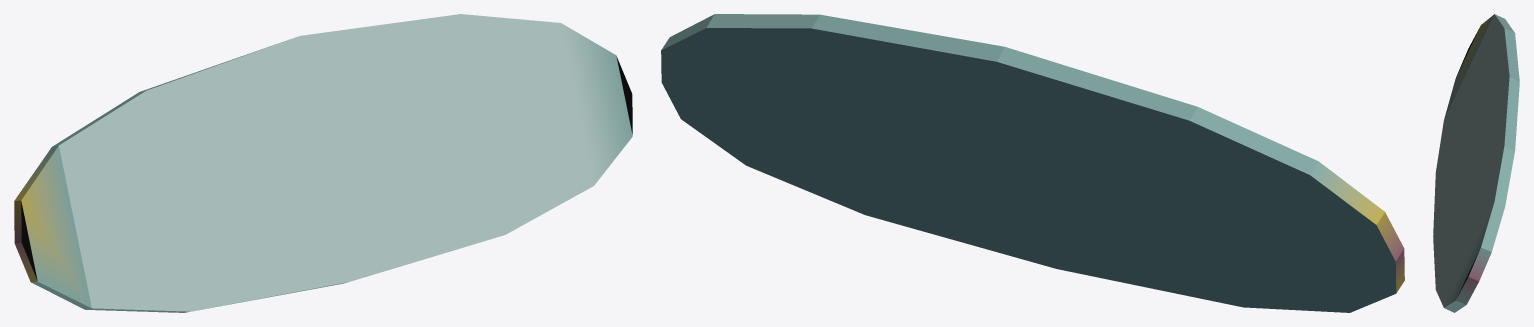
File: BeachStageSignCollider.glb
3 renders of one model, left to right at view 1: azimuth 30°, elevation 25°; view 2: azimuth 150°, elevation 25°; view 3: azimuth 270°, elevation 25°, orthographic. The views are drawn at different scales.
Visible parts, largest first — view 1: BeachStageSignCollider; view 2: BeachStageSignCollider; view 3: BeachStageSignCollider.
Boxes of the visible parts, x1,y1,x2,y2 form: BeachStageSignCollider: (14, 14, 632, 312); BeachStageSignCollider: (661, 14, 1404, 312); BeachStageSignCollider: (1433, 14, 1519, 312).
Size of the model in its own units: 2.6 by 0.8812 by 0.4178.
